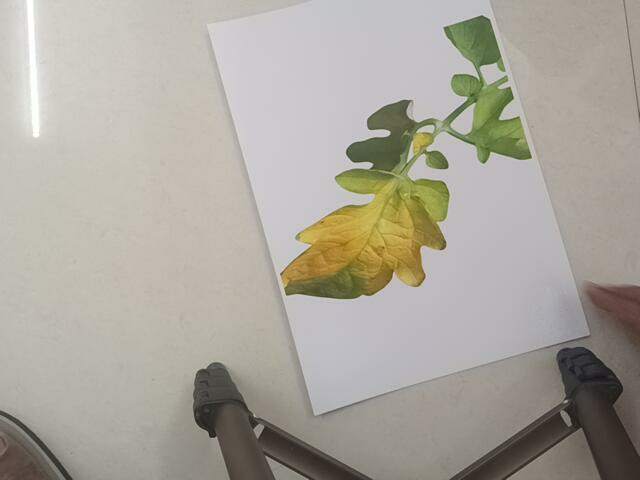Tomamto_Yellow_Disease: (277, 14, 564, 296)
